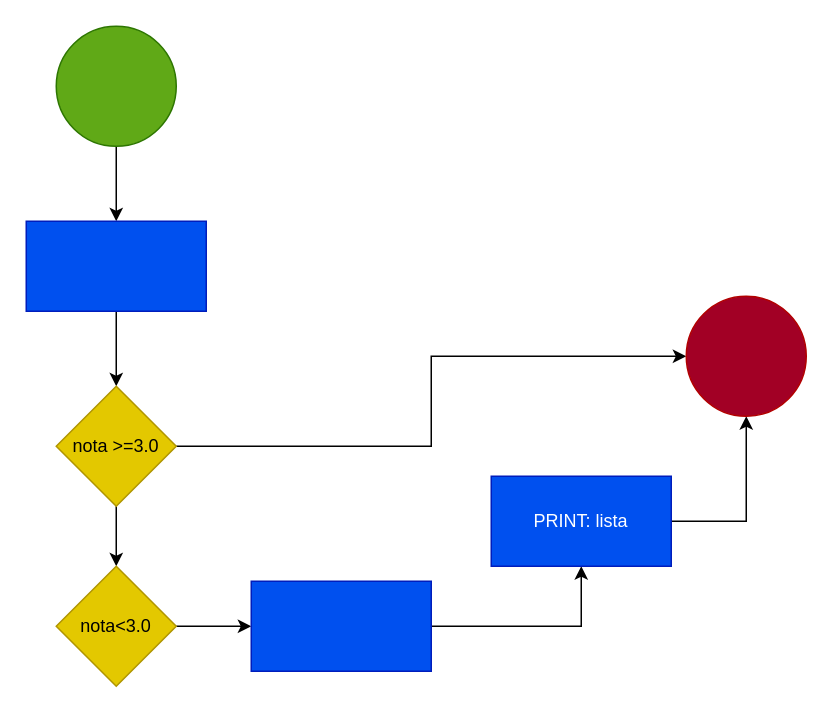
The diagram is 833 pixels wide and 713 high, and some of its shapes have lost their labels. The shapes that lost their labels are listed below. From the top down, each one's centre as x and y in pixels, then its label:
At [115,265]: "Leer nombres y notas".
At [340,625]: "Actualizar lista".
